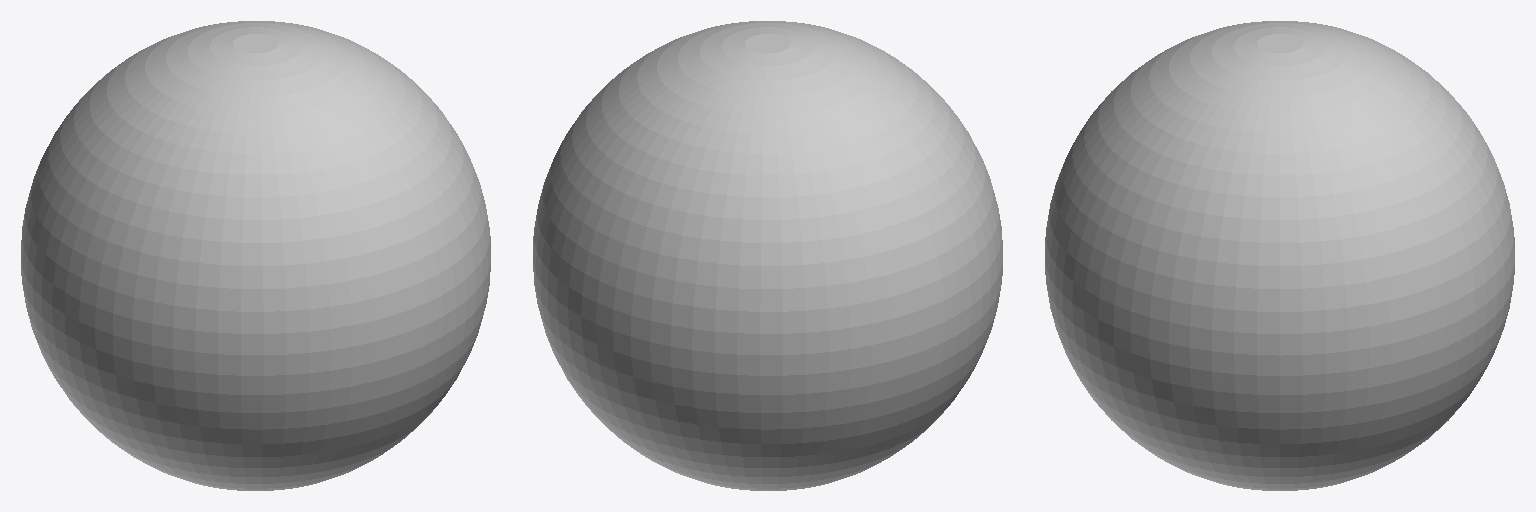
File: ball4.obj
3 renders of one model, left to right at view 1: azimuth 30°, elevation 25°; view 2: azimuth 150°, elevation 25°; view 3: azimuth 270°, elevation 25°, orthographic.
Visible parts, largest first — view 1: planet_Sphere.005; view 2: planet_Sphere.005; view 3: planet_Sphere.005.
Part boxes in pixels (x1,y1,x2,y2): planet_Sphere.005: (21,21,490,490); planet_Sphere.005: (533,21,1002,490); planet_Sphere.005: (1045,21,1514,490).
Bounding box in the file's own units: 0.2214 × 0.2204 × 0.2214.